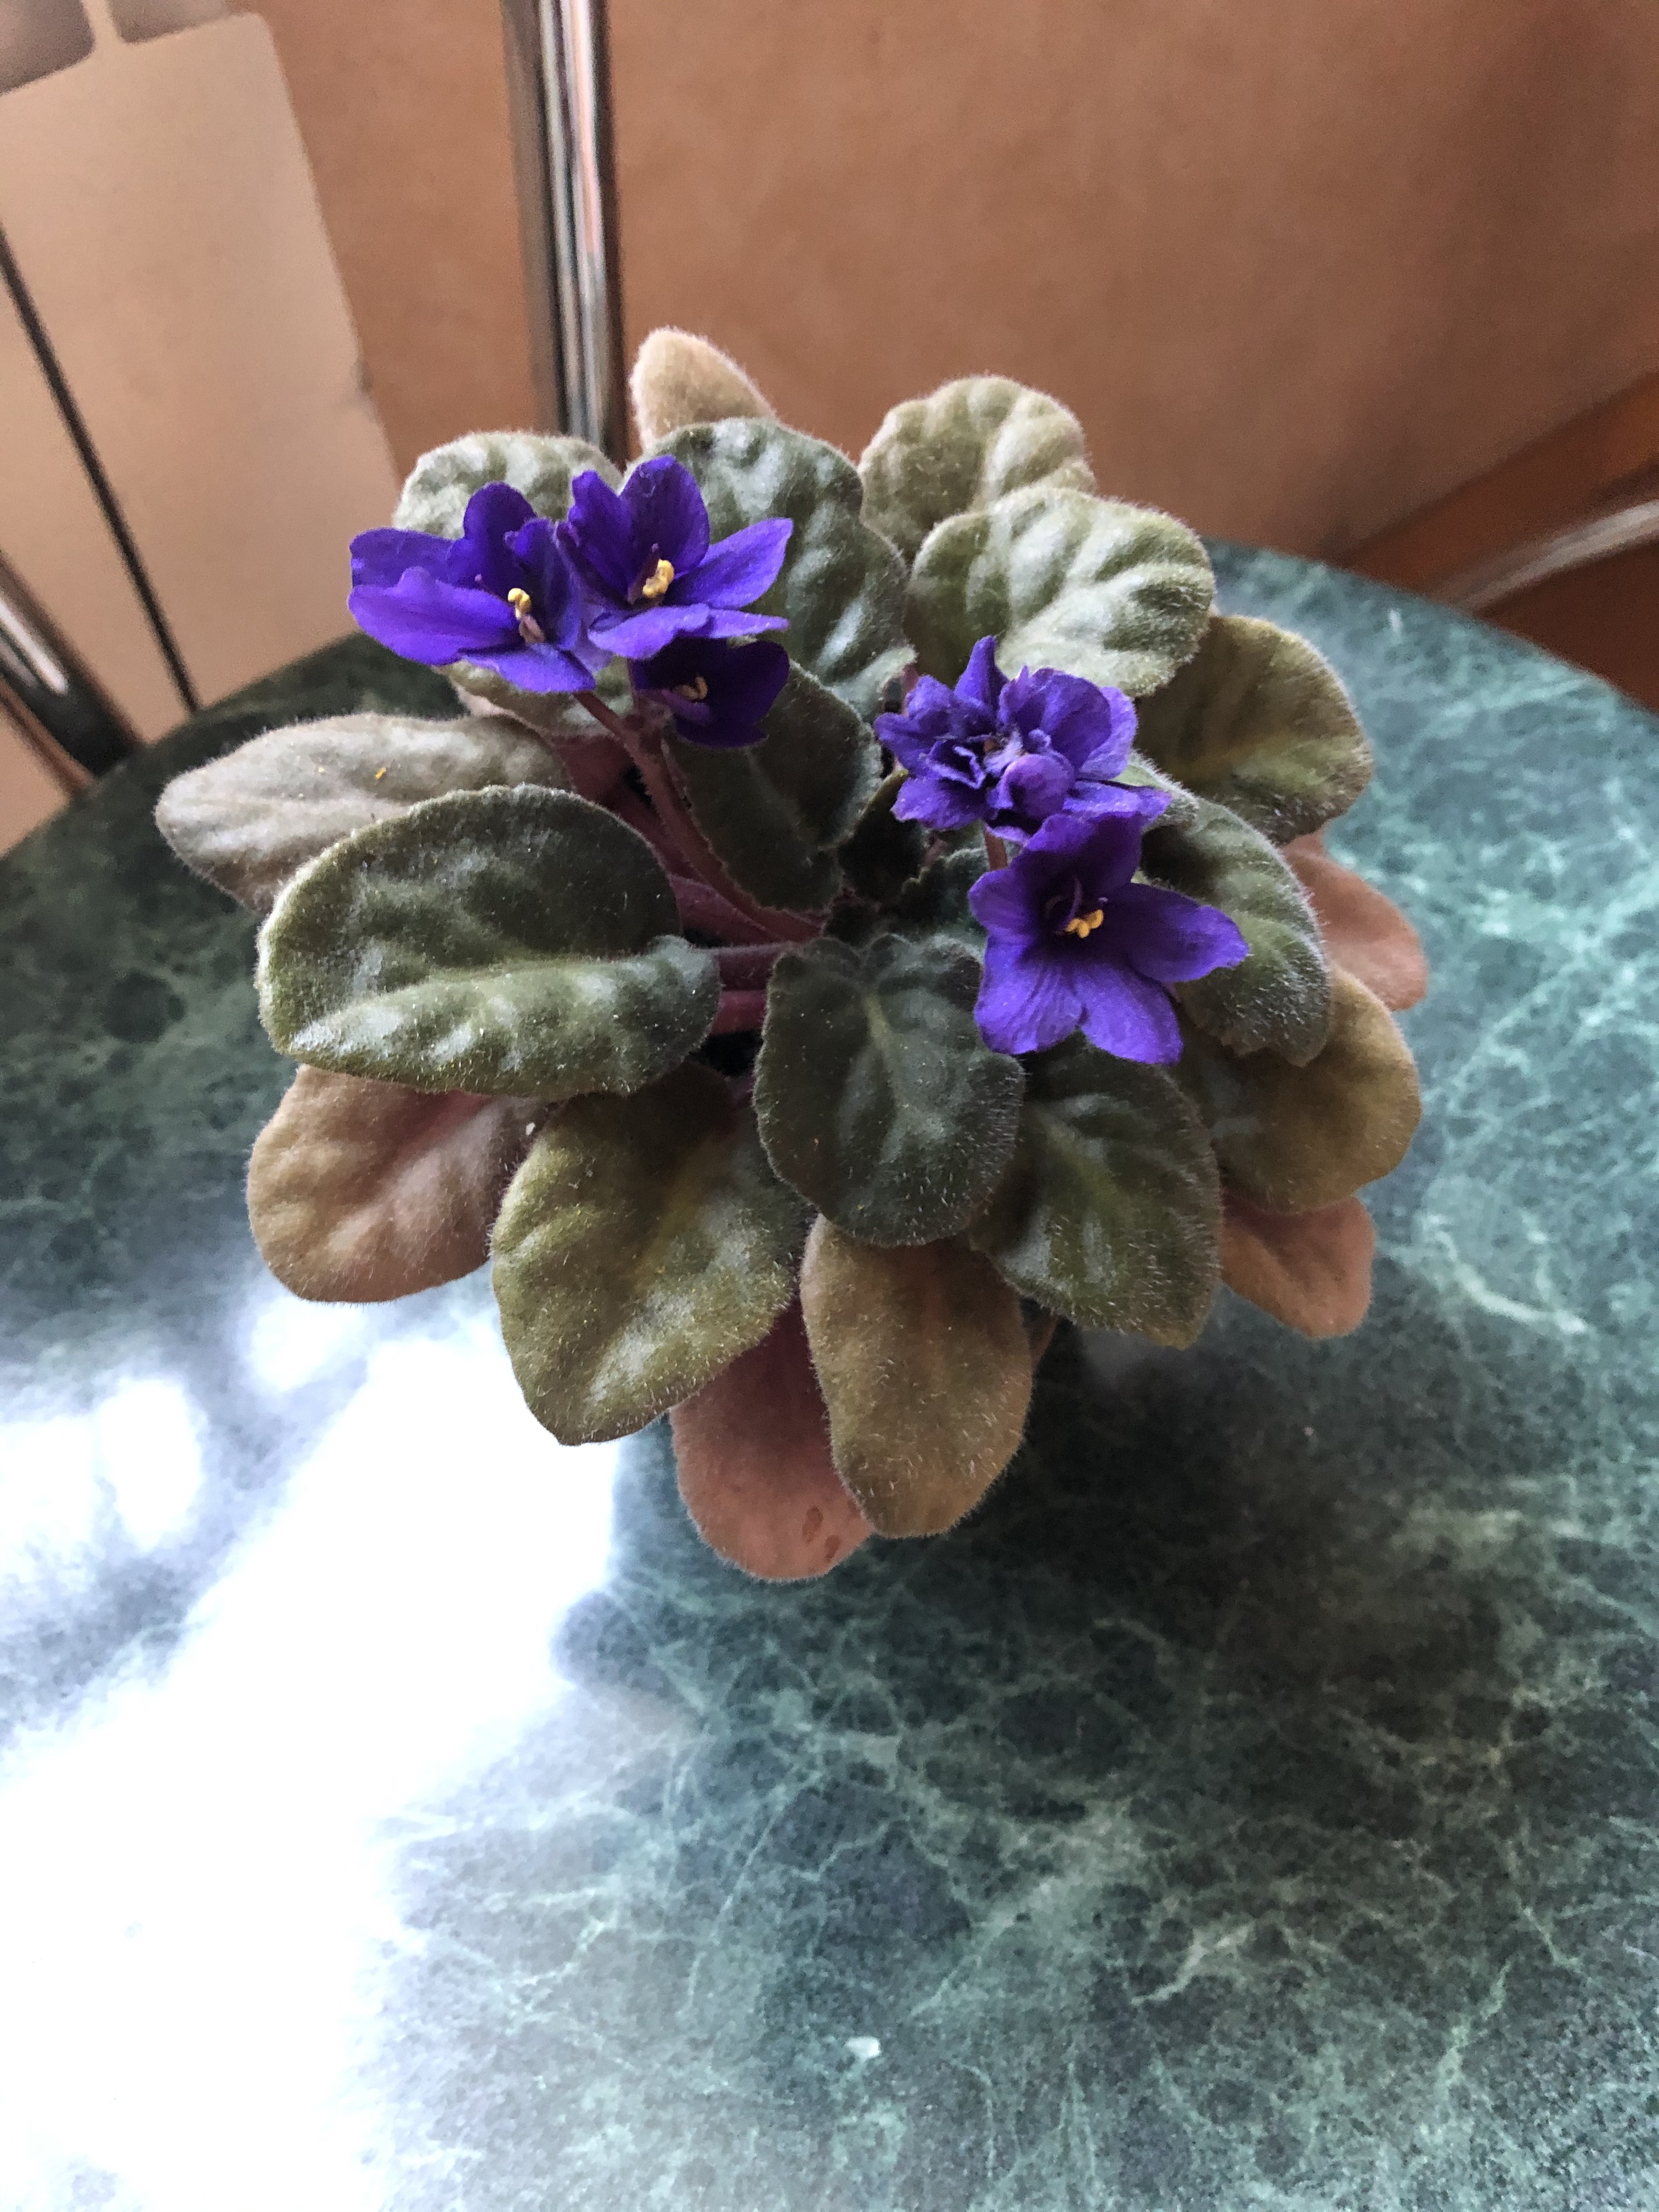ignore: (124, 291, 1480, 1625)
